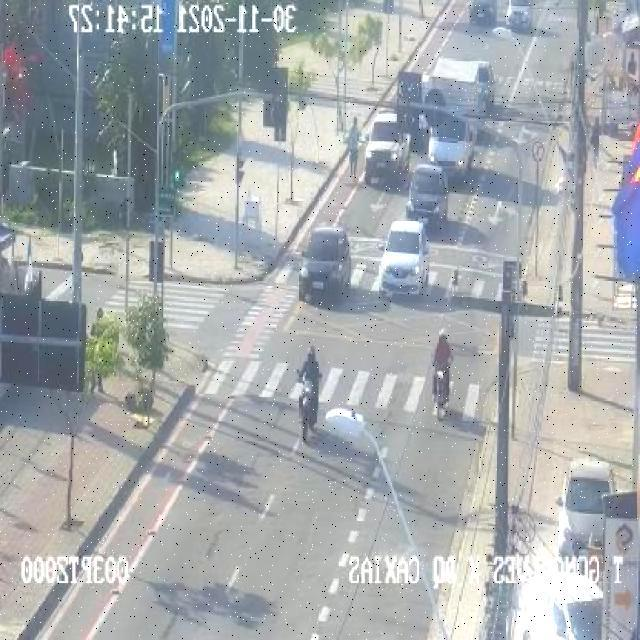car: (514, 556, 602, 639), (560, 464, 611, 556), (299, 226, 350, 303), (379, 221, 429, 295), (365, 112, 408, 188), (406, 164, 448, 222), (470, 0, 498, 28), (508, 0, 532, 32)
motorcyclist: (299, 346, 320, 439), (432, 334, 451, 417)
traffic-lights: (149, 240, 165, 299)
